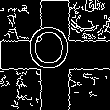O_S: (33, 30, 77, 80)
